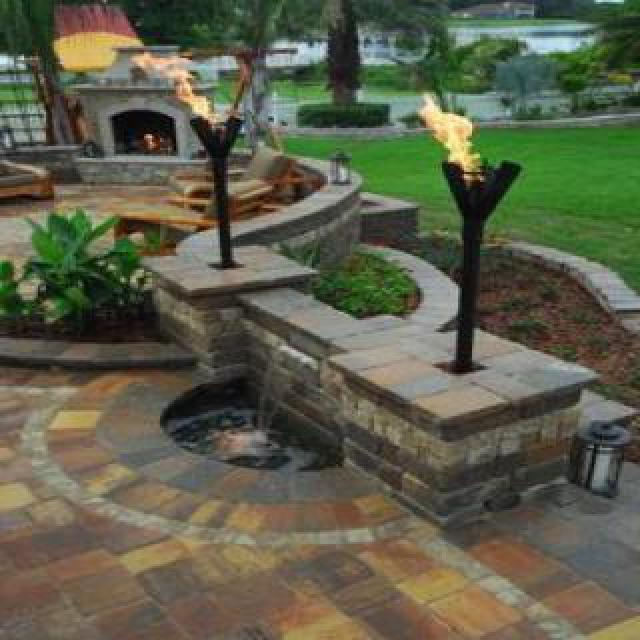Fire: (132, 46, 224, 132), (412, 82, 490, 172)
